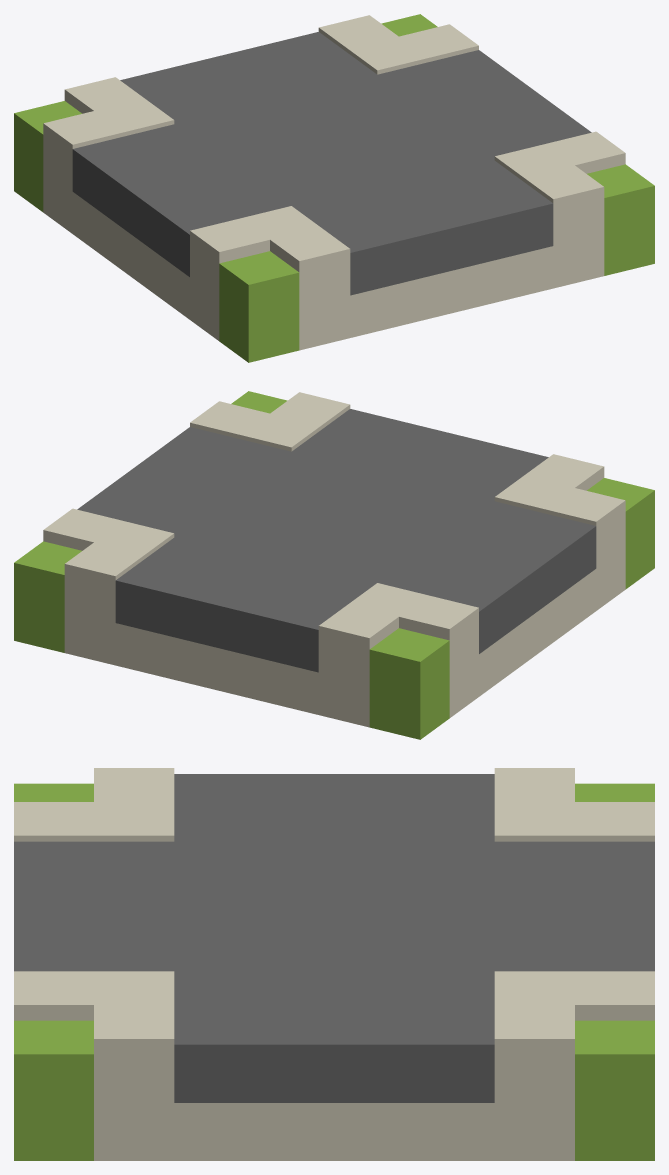
The model's file is Intersection.obj.
3 views of the same model, one above another, from view 1: azimuth 30°, elevation 25°; view 2: azimuth 150°, elevation 25°; view 3: azimuth 270°, elevation 25° (orthographic). The views are drawn at different scales.
Visible parts, largest first — view 1: Intersection; view 2: Intersection; view 3: Intersection.
Boxes of the visible parts, <box> form: Intersection: <box>14,14,654,362</box>; Intersection: <box>14,391,654,739</box>; Intersection: <box>14,768,654,1160</box>.
Bounding box in the file's own units: 3 × 0.63 × 3.
